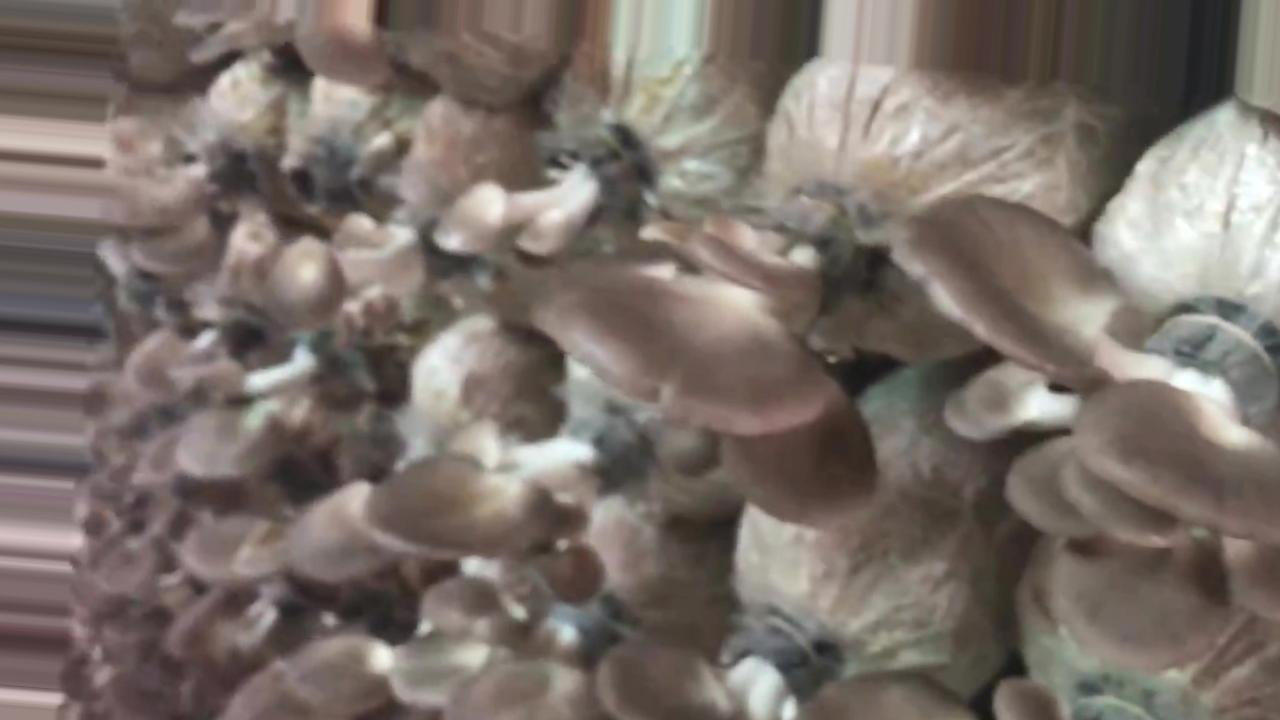nam: (882, 188, 1280, 553), (525, 174, 893, 530), (366, 446, 584, 560)
